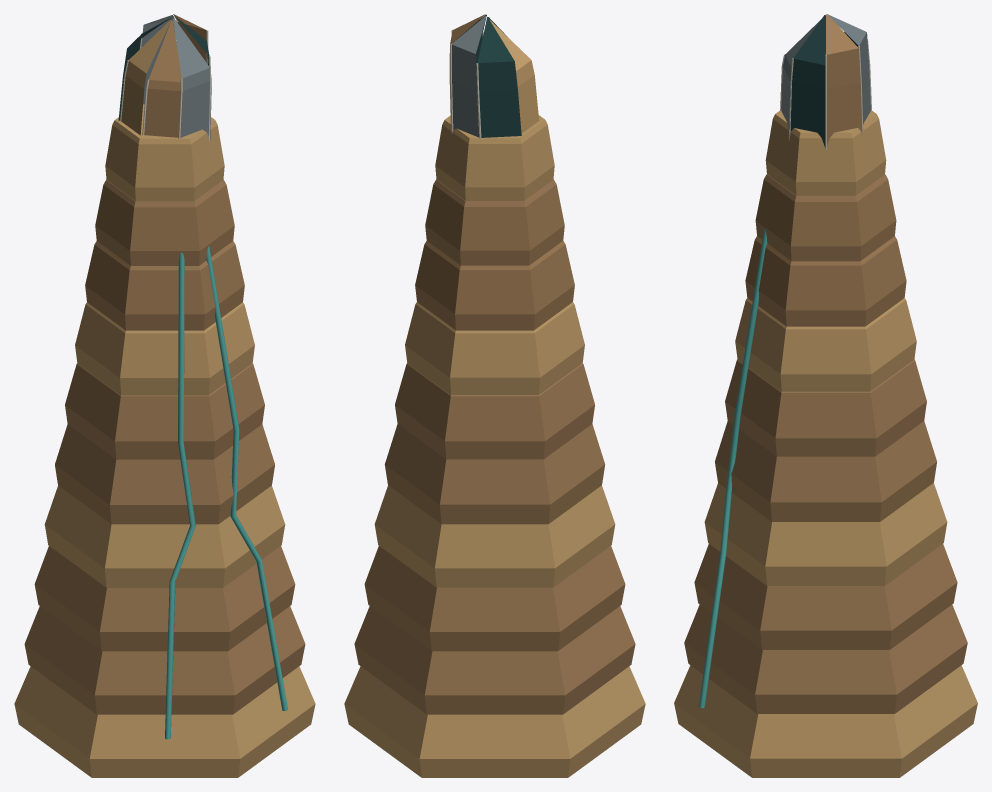
File: landmark_kharon.glb
3 views of the same model, side by side, from view 1: azimuth 30°, elevation 25°; view 2: azimuth 150°, elevation 25°; view 3: azimuth 270°, elevation 25° (orthographic).
Parts seen in each view (by area): view 1: landmark_kharon; view 2: landmark_kharon; view 3: landmark_kharon.
Boxes of the visible parts, <box> form: landmark_kharon: <box>14,14,315,777</box>; landmark_kharon: <box>344,14,645,777</box>; landmark_kharon: <box>674,14,977,777</box>.
Size of the model in its own units: 14.63 by 43.8 by 16.89.
